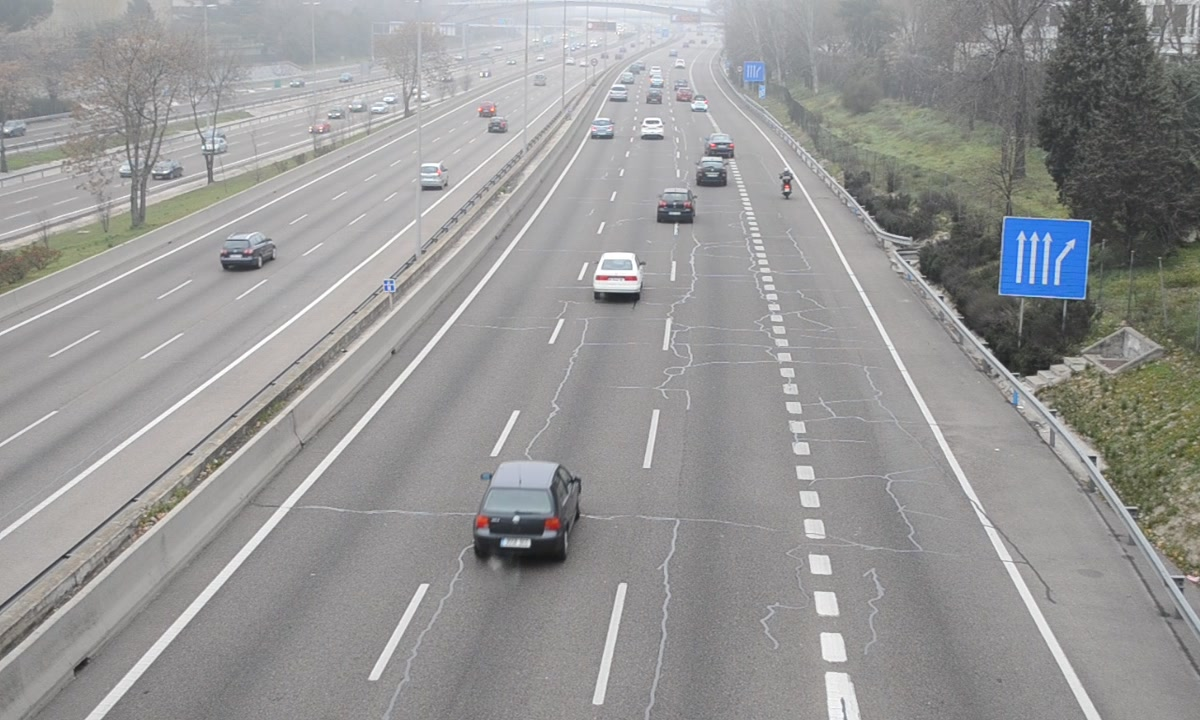car: (473, 461, 580, 556), (595, 251, 643, 295), (658, 188, 697, 224), (696, 157, 728, 188), (706, 132, 737, 157), (639, 116, 666, 140), (590, 117, 615, 139)
motorcycle: (779, 168, 796, 201)
